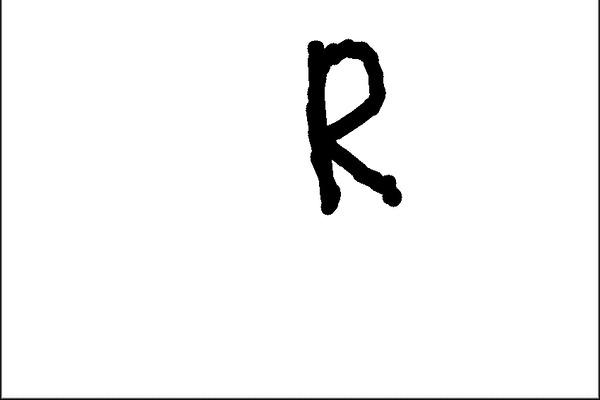R: (289, 26, 405, 218)
